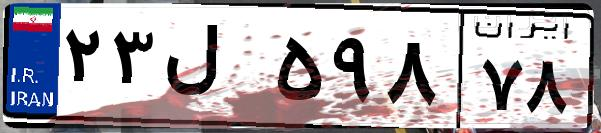2: (57, 26, 110, 100)
3: (110, 28, 158, 98)
5: (270, 28, 330, 110)
7: (475, 38, 525, 113)
8: (385, 28, 445, 110), (525, 38, 570, 115)
9: (330, 28, 385, 110)
ل: (158, 20, 270, 120)
